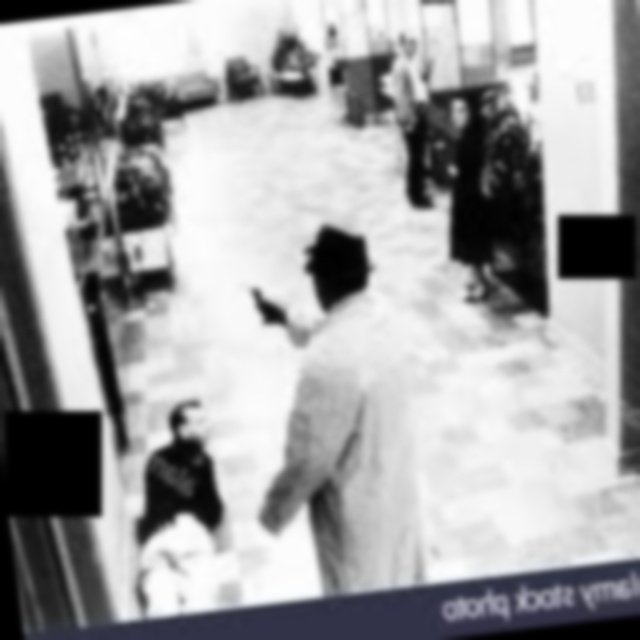gun: (244, 276, 275, 322)
